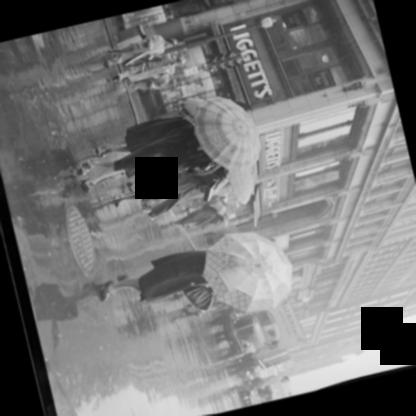handbag: (168, 173, 197, 199), (182, 286, 211, 311), (201, 178, 222, 202)
